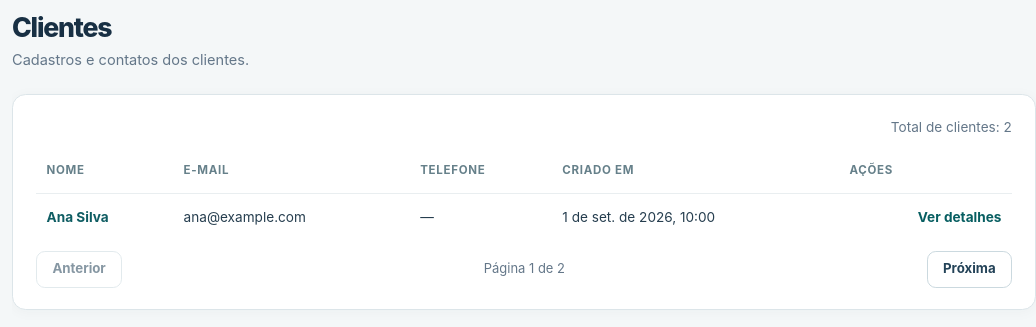
Test: CustomersPage › paginates the API list and hides creation from viewers
Check: the link "Ana Silva" is shown, box x1=47 y1=209 x2=109 y2=225
Click the button "Próxima": (969, 269) x1=927 y1=250 x2=1012 y2=288
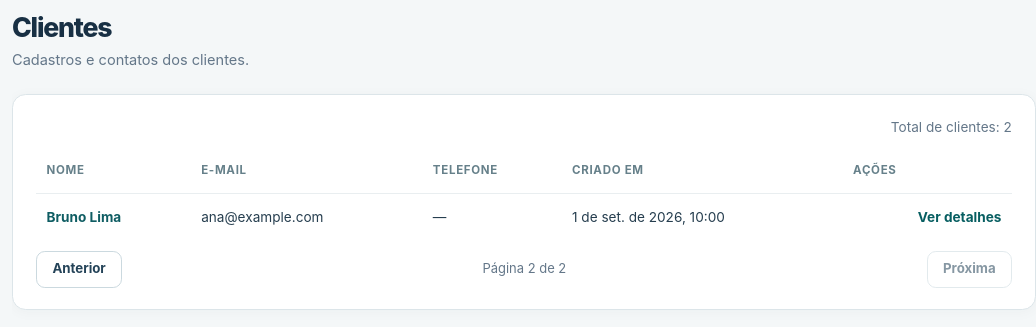
Check: the link "Bruno Lima" is shown, box x1=47 y1=209 x2=121 y2=225
